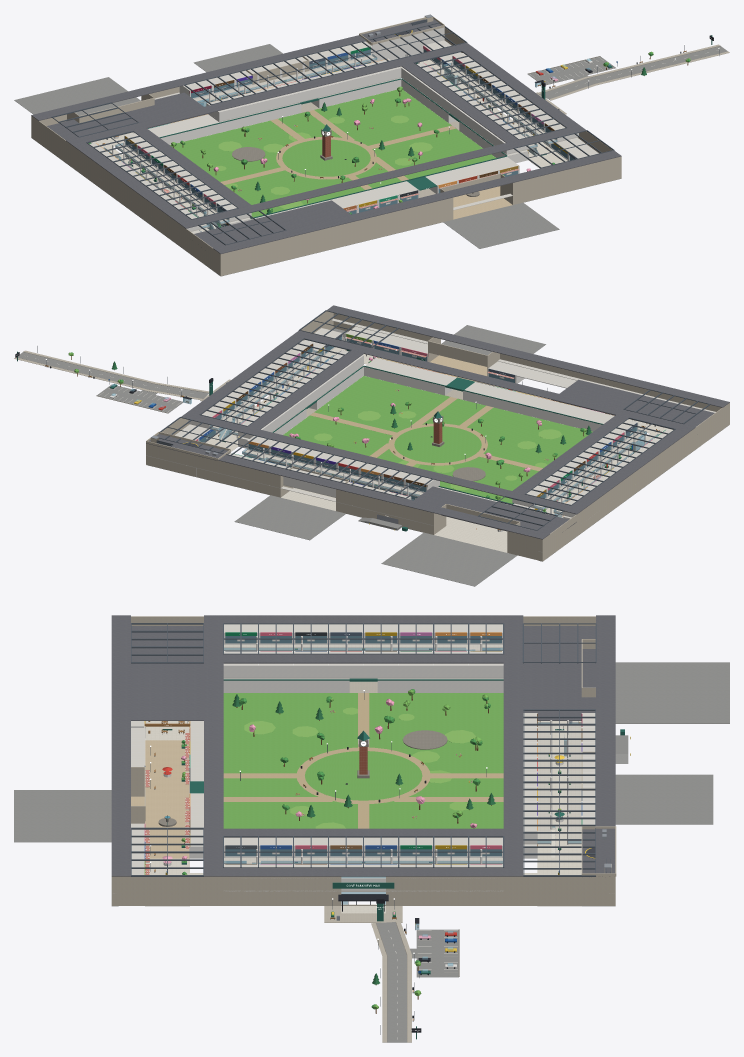
The model's file is mall.glb.
The picture shows the model from 3 angles, top to bottom: view 1: azimuth 30°, elevation 25°; view 2: azimuth 150°, elevation 25°; view 3: azimuth 270°, elevation 25°; orthographic projection. The views are drawn at different scales.
Visible parts, largest first — view 1: Mall_TW_MallRoof, Mall_TW_MallGrass, Mall_TW_MallOuter, Mall_TW_MallSlab, Mall_TW_MallWall, Mall_TW_MallService, Mall_TW_MallSteel, Mall_TW_MallGlass, Mall_TW_MallPath, Mall_TW_MallFloorUpper, Mall_TW_MallFloor, Mall_TW_MallVoid (+5 smaller); view 2: Mall_TW_MallRoof, Mall_TW_MallOuter, Mall_TW_MallGrass, Mall_TW_MallSlab, Mall_TW_MallService, Mall_TW_MallSteel, Mall_TW_MallWall, Mall_TW_MallGlass, Mall_TW_MallFloor, Mall_TW_MallFloorUpper, Mall_TW_MallPath, Mall_TW_MallVoid (+5 smaller); view 3: Mall_TW_MallRoof, Mall_TW_MallGrass, Mall_TW_MallService, Mall_TW_MallOuter, Mall_TW_MallSlab, Mall_TW_MallSteel, Mall_TW_MallWall, Mall_TW_MallFloorUpper, Mall_TW_MallGlass, Mall_TW_MallStreet, Mall_TW_MallFloor, Mall_TW_MallPath (+8 smaller).
Boxes of the visible parts, x1=… form: Mall_TW_MallRoof: x1=31, y1=19, x2=621, y2=253; Mall_TW_MallGrass: x1=170, y1=89, x2=496, y2=217; Mall_TW_MallOuter: x1=31, y1=16, x2=621, y2=276; Mall_TW_MallSlab: x1=90, y1=40, x2=598, y2=233; Mall_TW_MallWall: x1=90, y1=27, x2=592, y2=231; Mall_TW_MallService: x1=14, y1=44, x2=727, y2=276; Mall_TW_MallSteel: x1=51, y1=19, x2=719, y2=245; Mall_TW_MallGlass: x1=103, y1=49, x2=610, y2=229; Mall_TW_MallPath: x1=220, y1=110, x2=455, y2=189; Mall_TW_MallFloorUpper: x1=116, y1=56, x2=556, y2=229; Mall_TW_MallFloor: x1=55, y1=59, x2=567, y2=266; Mall_TW_MallVoid: x1=126, y1=49, x2=574, y2=226; Mall_TW_MallRoof: x1=146, y1=305, x2=729, y2=539; Mall_TW_MallOuter: x1=146, y1=311, x2=729, y2=561; Mall_TW_MallGrass: x1=283, y1=376, x2=592, y2=503; Mall_TW_MallSlab: x1=146, y1=318, x2=715, y2=552; Mall_TW_MallService: x1=18, y1=325, x2=728, y2=586; Mall_TW_MallSteel: x1=37, y1=310, x2=710, y2=530; Mall_TW_MallWall: x1=109, y1=333, x2=671, y2=531; Mall_TW_MallGlass: x1=111, y1=337, x2=658, y2=517; Mall_TW_MallFloor: x1=205, y1=347, x2=706, y2=552; Mall_TW_MallFloorUpper: x1=211, y1=352, x2=644, y2=517; Mall_TW_MallPath: x1=310, y1=397, x2=542, y2=471; Mall_TW_MallVoid: x1=200, y1=337, x2=636, y2=510; Mall_TW_MallRoof: x1=111, y1=615, x2=615, y2=876; Mall_TW_MallGrass: x1=223, y1=693, x2=503, y2=828; Mall_TW_MallService: x1=14, y1=662, x2=729, y2=1042; Mall_TW_MallOuter: x1=111, y1=616, x2=616, y2=905; Mall_TW_MallSlab: x1=113, y1=624, x2=614, y2=893; Mall_TW_MallSteel: x1=131, y1=623, x2=610, y2=1034; Mall_TW_MallWall: x1=131, y1=632, x2=594, y2=967; Mall_TW_MallFloorUpper: x1=224, y1=644, x2=581, y2=863; Mall_TW_MallGlass: x1=224, y1=636, x2=581, y2=972; Mall_TW_MallStreet: x1=131, y1=740, x2=189, y2=858; Mall_TW_MallFloor: x1=145, y1=721, x2=581, y2=913; Mall_TW_MallPath: x1=223, y1=693, x2=503, y2=828.
Size of the model in its own units: 335 by 17.91 by 256.
Materials: 79 (75 with a texture image).
